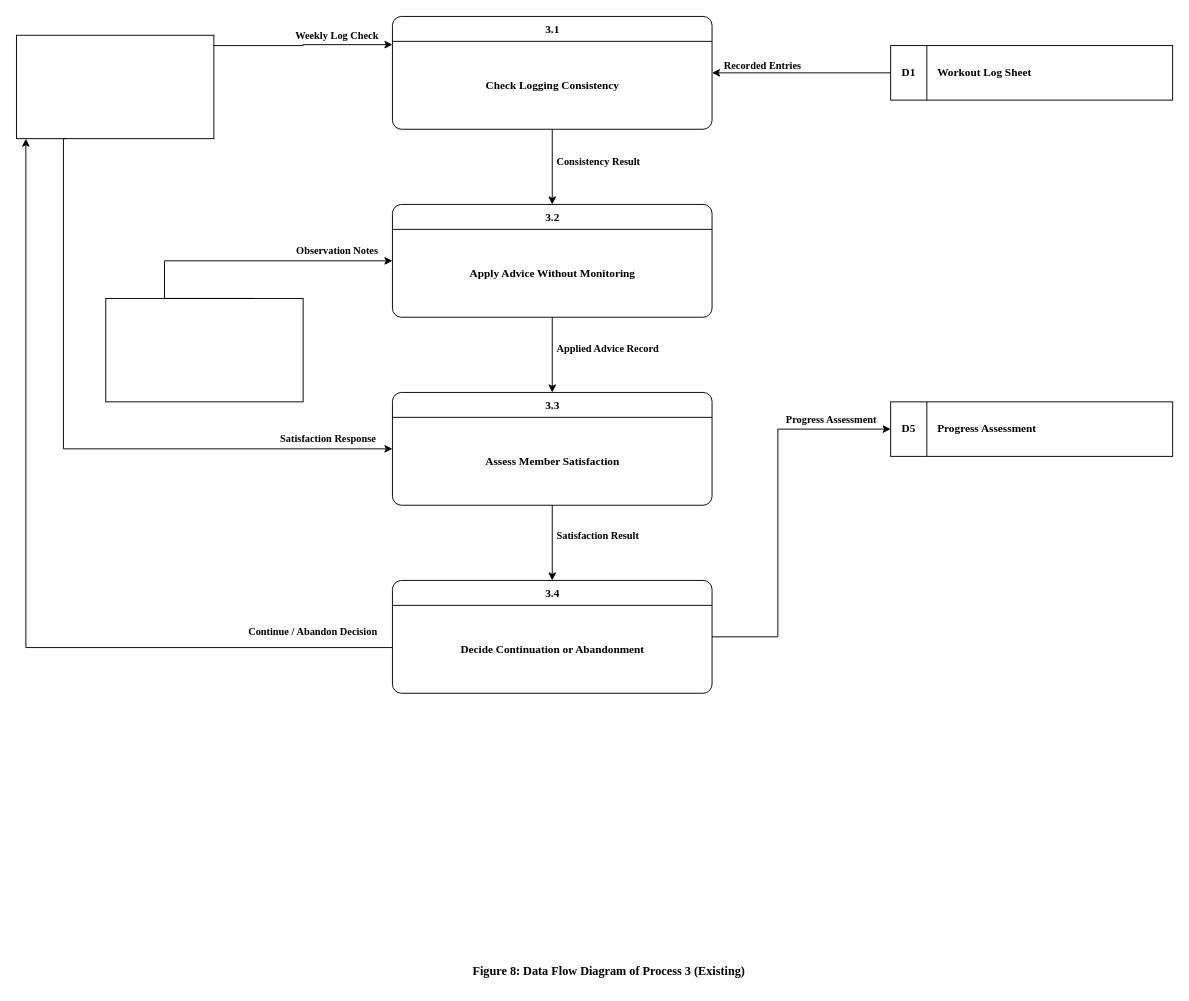
This 1189x1001 diagram has some shape labels left out. The centre of each missing label's shape, as x and y in pixels:
"MEMBER" belongs at pixel 115 86.
"TRAINER / STAFF" belongs at pixel 204 350.
